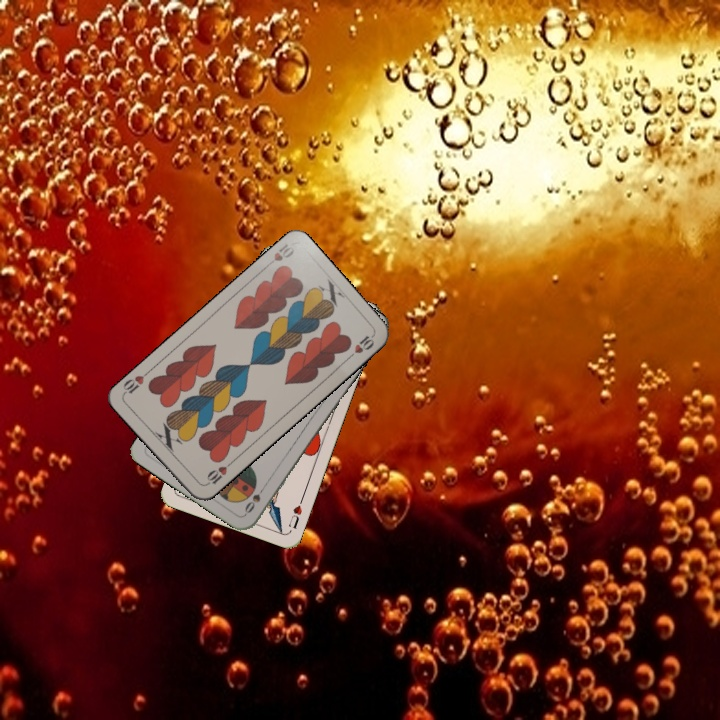H10: (261, 239, 297, 271), (201, 457, 235, 488)
HU: (284, 494, 306, 531)
SO: (240, 481, 268, 517)
